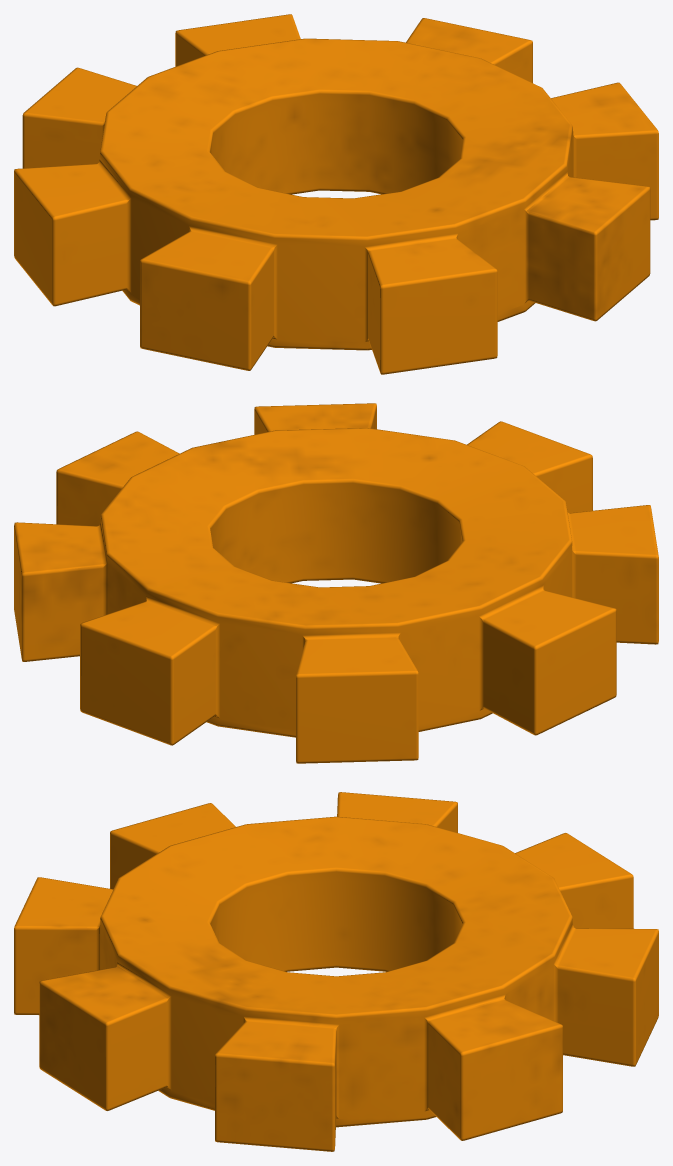
File: engranaje.fbx
The picture shows the model from 3 angles, top to bottom: view 1: azimuth 30°, elevation 25°; view 2: azimuth 150°, elevation 25°; view 3: azimuth 270°, elevation 25°; orthographic projection.
Visible parts, largest first — view 1: engranaje; view 2: engranaje; view 3: engranaje.
Boxes of the visible parts, <box> form: engranaje: <box>14,14,658,374</box>; engranaje: <box>14,403,658,763</box>; engranaje: <box>14,792,658,1151</box>.
Bounding box in the file's own units: 57.97 × 11.13 × 57.97.
